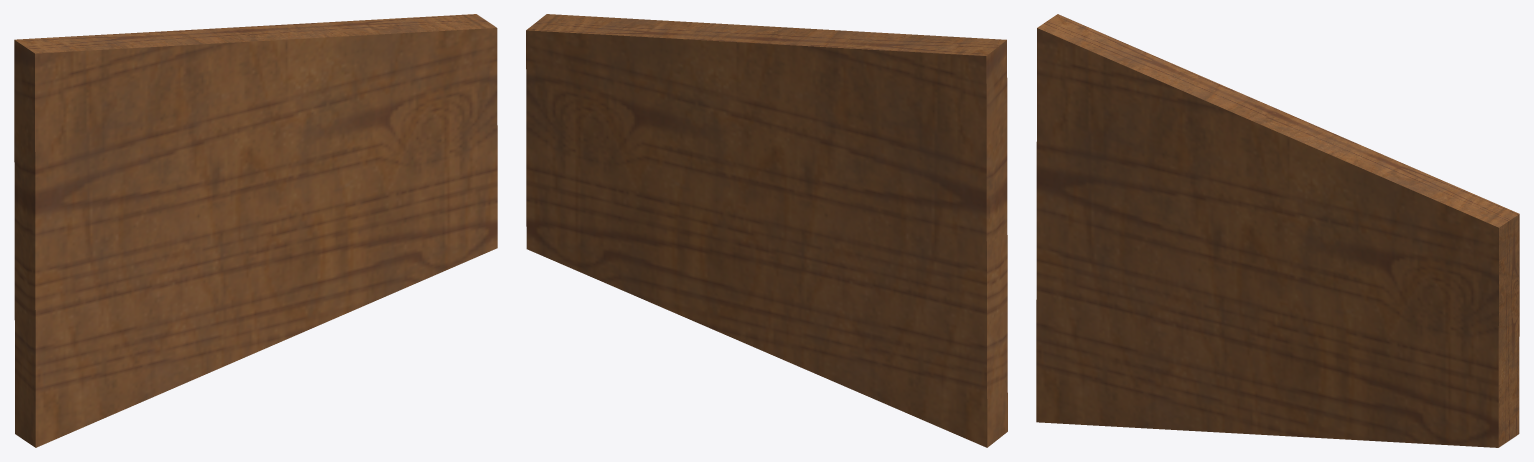
Rendered from WoodDetails_Art.fbx.
3 views of the same model, side by side, from view 1: azimuth 30°, elevation 25°; view 2: azimuth 150°, elevation 25°; view 3: azimuth 330°, elevation 25° (orthographic).
Parts seen in each view (by area): view 1: WoodDetails_Art; view 2: WoodDetails_Art; view 3: WoodDetails_Art.
Boxes of the visible parts, x1=… form: WoodDetails_Art: x1=14, y1=14, x2=497, y2=447; WoodDetails_Art: x1=526, y1=14, x2=1007, y2=447; WoodDetails_Art: x1=1036, y1=14, x2=1519, y2=447.
Size of the model in its own units: 0.9371 by 0.7654 by 0.0757.
